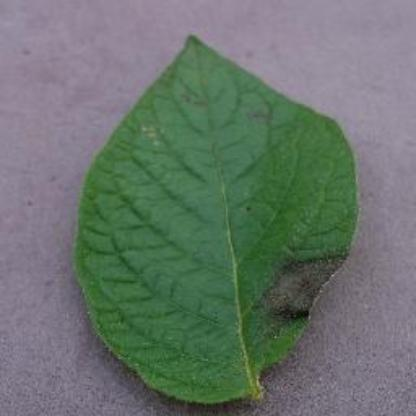Late-Blight: (69, 29, 361, 409)
